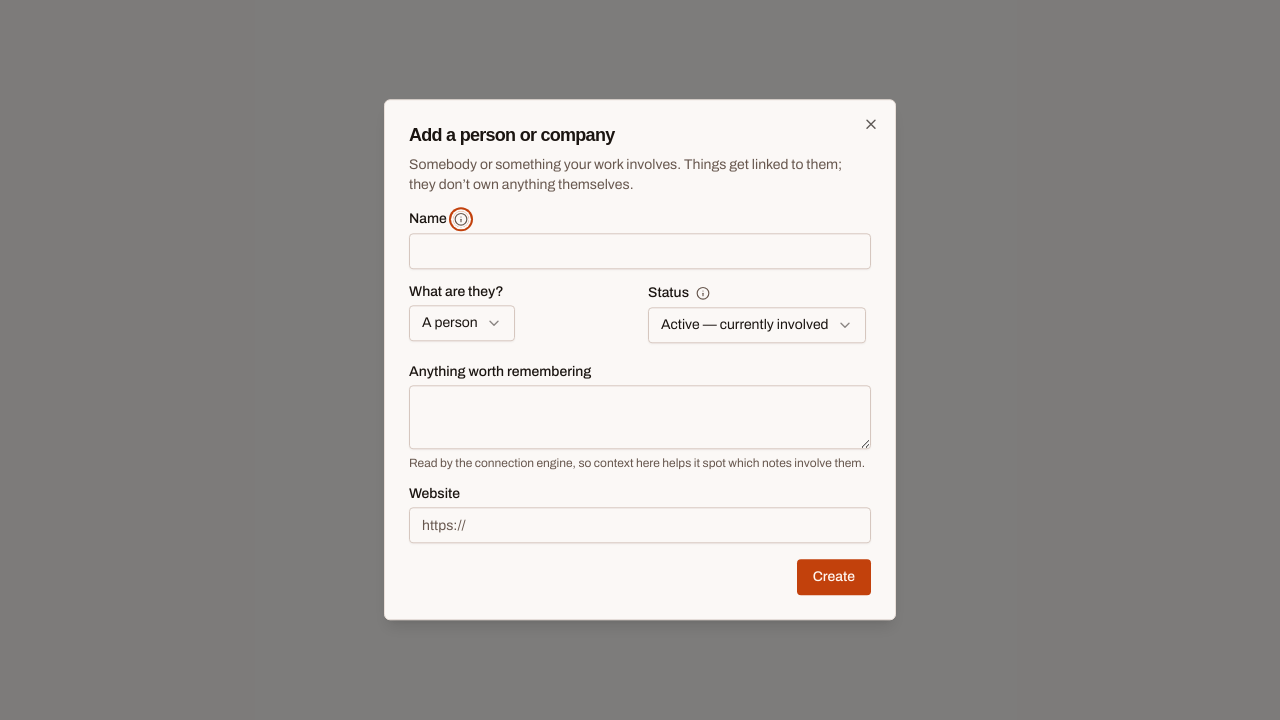
EntityForm › rejects a blank name before any request is made
Click the field labelled "Name" at (640, 252), box x1=409 y1=234 x2=871 y2=270
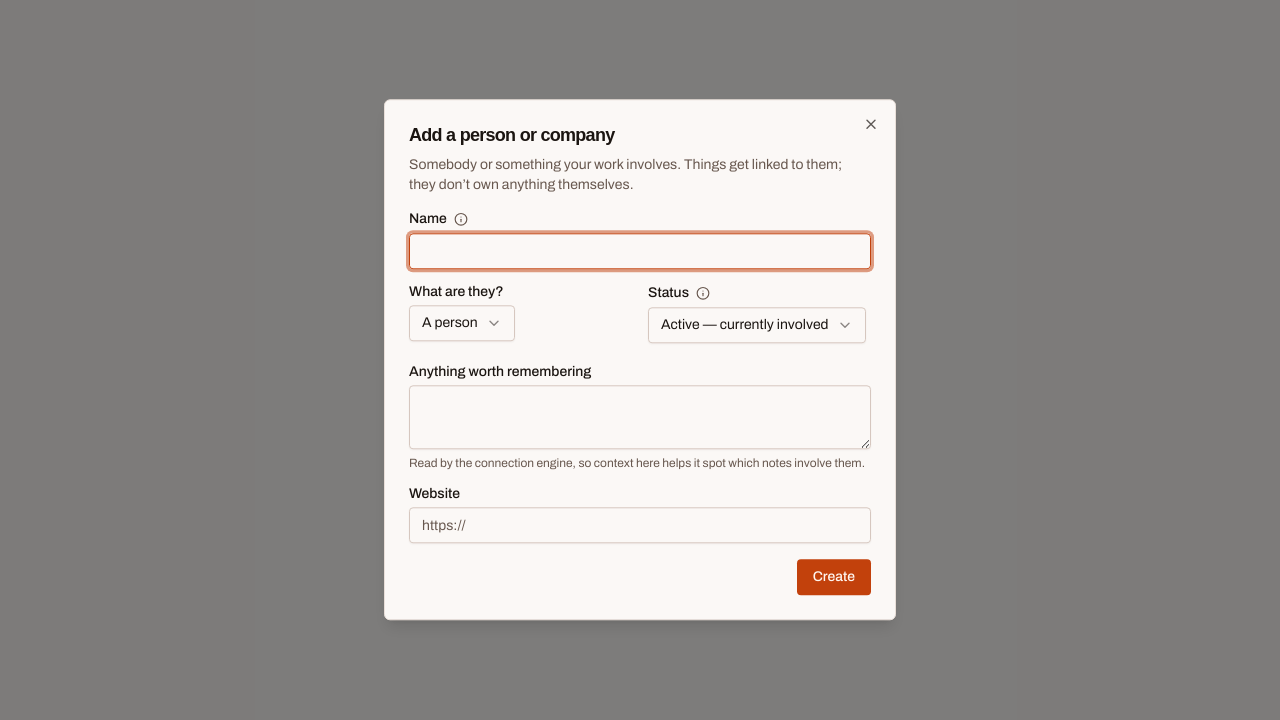
Click the button "Create" at (834, 578), box x1=797 y1=560 x2=871 y2=596
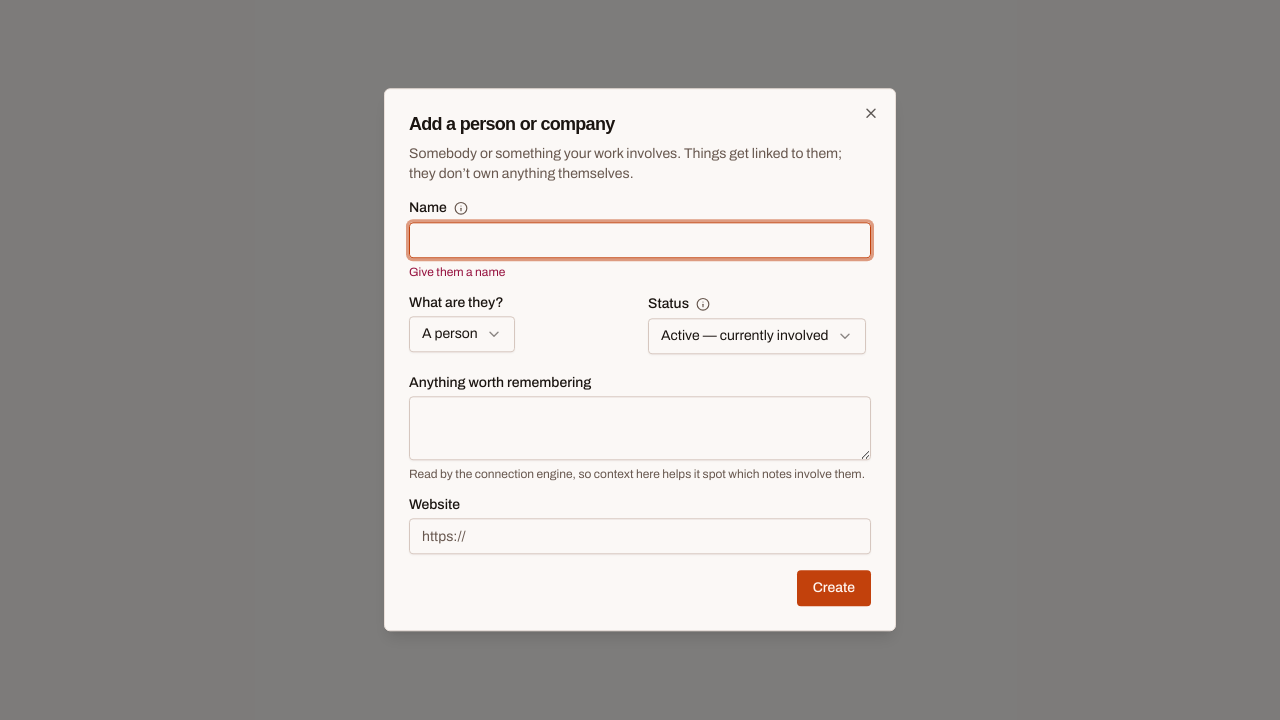
Now the text "Give them a name" is shown, box x1=409 y1=266 x2=505 y2=280
